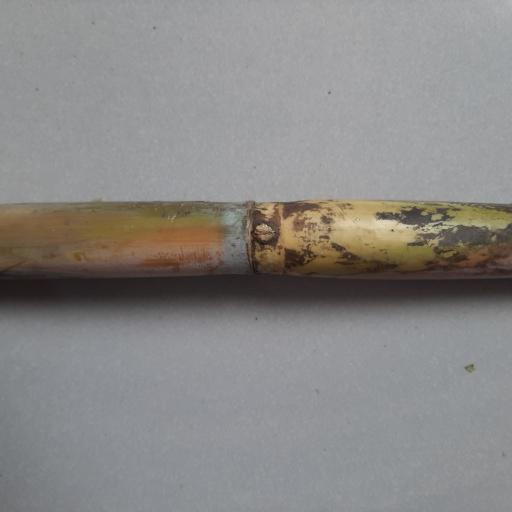Bud: (250, 223, 277, 243)
